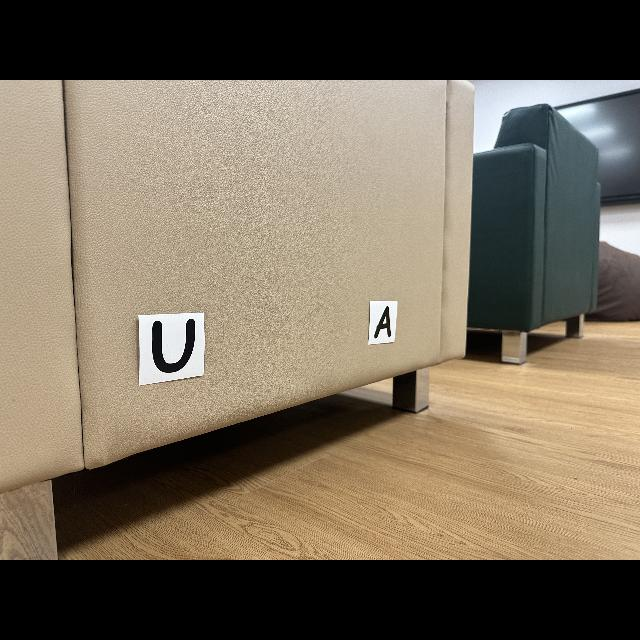A: (374, 306, 391, 339)
U: (152, 319, 195, 372)
